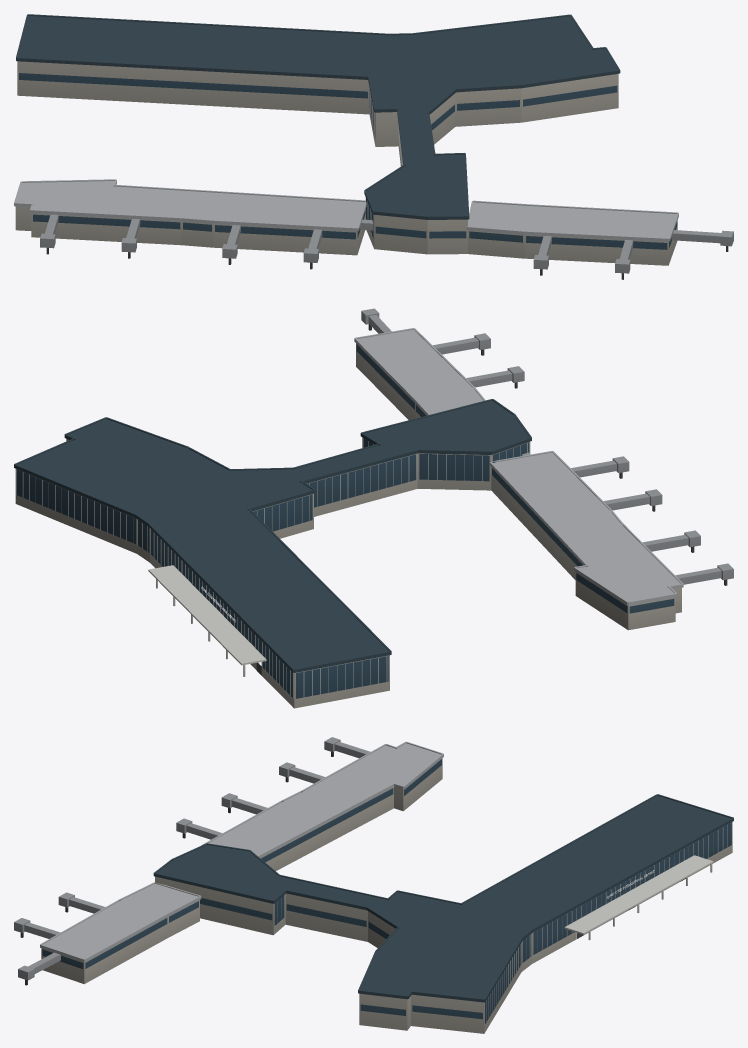
The model's file is mli.glb.
3 renders of one model, top to bottom at view 1: azimuth 30°, elevation 25°; view 2: azimuth 150°, elevation 25°; view 3: azimuth 270°, elevation 25°, orthographic. The views are drawn at different scales.
Visible parts, largest first — view 1: mli_lod0; view 2: mli_lod0; view 3: mli_lod0.
Boxes of the visible parts, left/top/right/bottom form: mli_lod0: left=14, top=14, right=733, bottom=279; mli_lod0: left=14, top=308, right=733, bottom=708; mli_lod0: left=14, top=737, right=733, bottom=1033.
Size of what is drawn, in the model's own units: 242 by 14.4 by 269.
